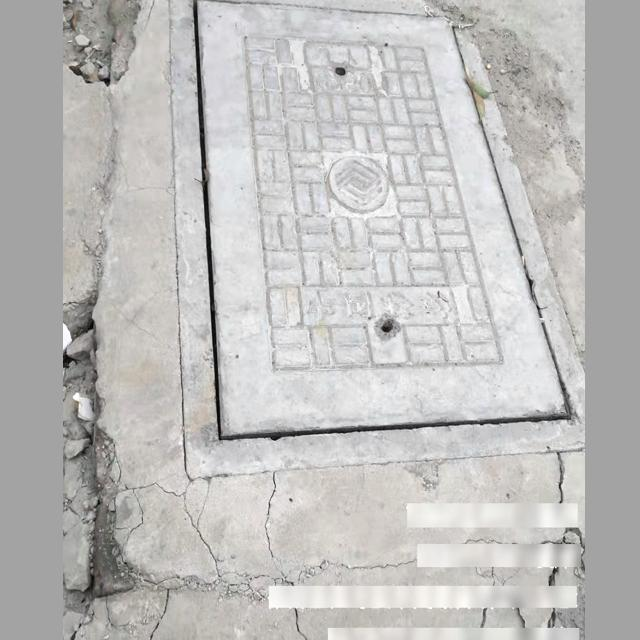good: (170, 0, 585, 477)
